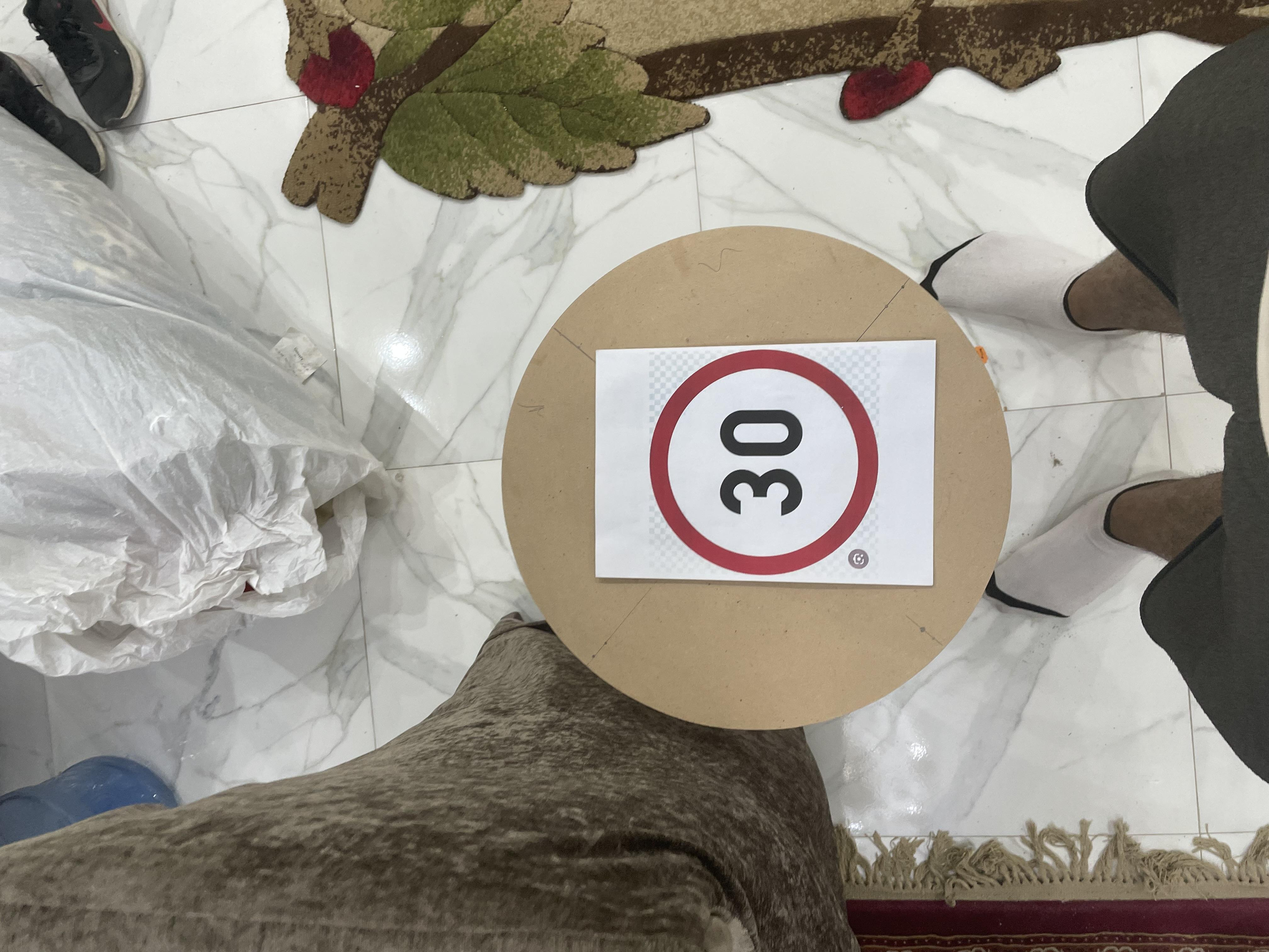30-speed: (513, 487, 791, 655)
